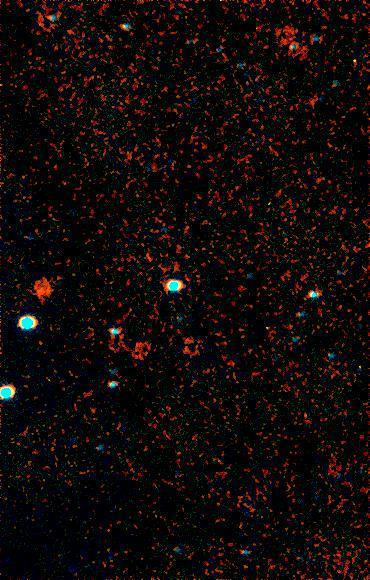star: (293, 399, 323, 429)
